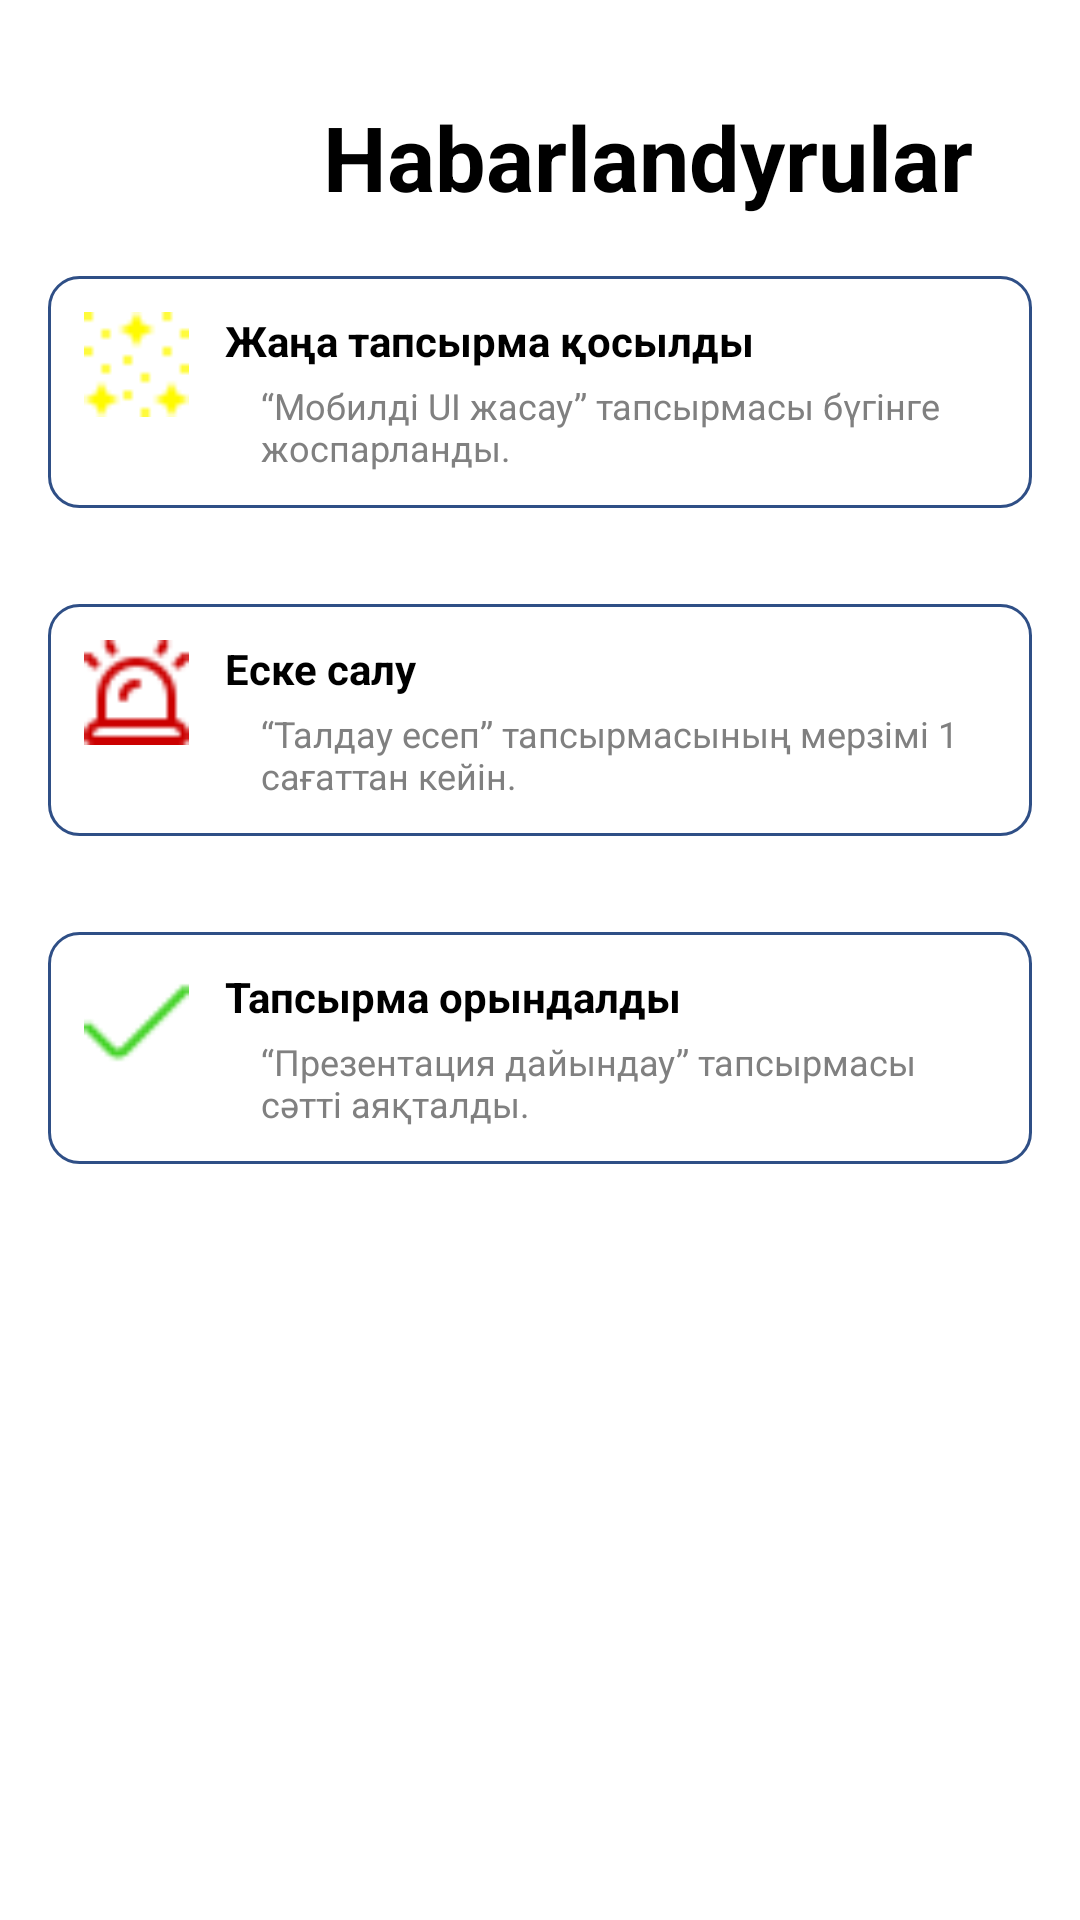

Icons on this 1080 x 1920 Android screen, each with its box as (x1, y1, x2, y2):
Deadline Reminder: (84, 640, 189, 745)
New Task: (84, 312, 189, 417)
Task Completed: (84, 984, 189, 1061)
